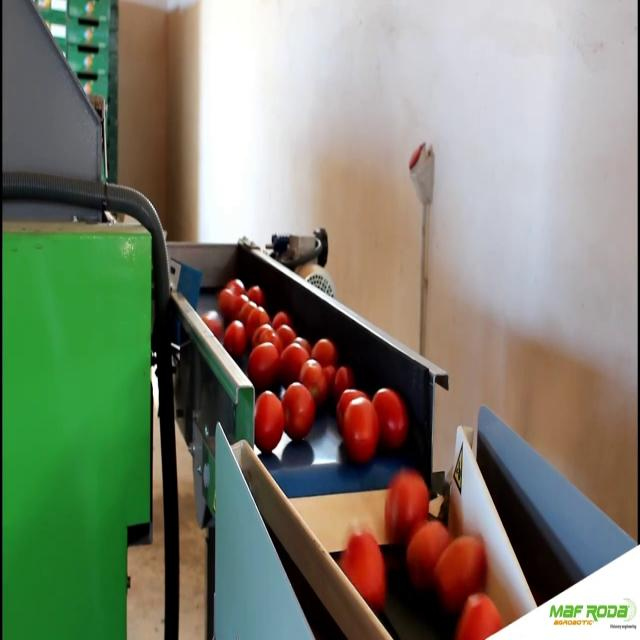Tomato: (341, 528, 386, 614), (436, 528, 476, 610), (383, 473, 428, 530), (343, 399, 379, 464), (407, 519, 450, 568), (283, 381, 316, 444), (375, 387, 407, 450), (255, 390, 283, 458), (461, 593, 498, 640), (250, 345, 279, 380), (310, 341, 336, 375), (299, 361, 323, 397), (220, 275, 243, 308), (282, 346, 306, 376), (228, 321, 247, 352), (249, 302, 266, 331), (204, 312, 220, 339), (335, 366, 349, 392), (271, 311, 292, 327), (278, 324, 294, 344), (240, 301, 256, 314), (248, 288, 262, 301)
